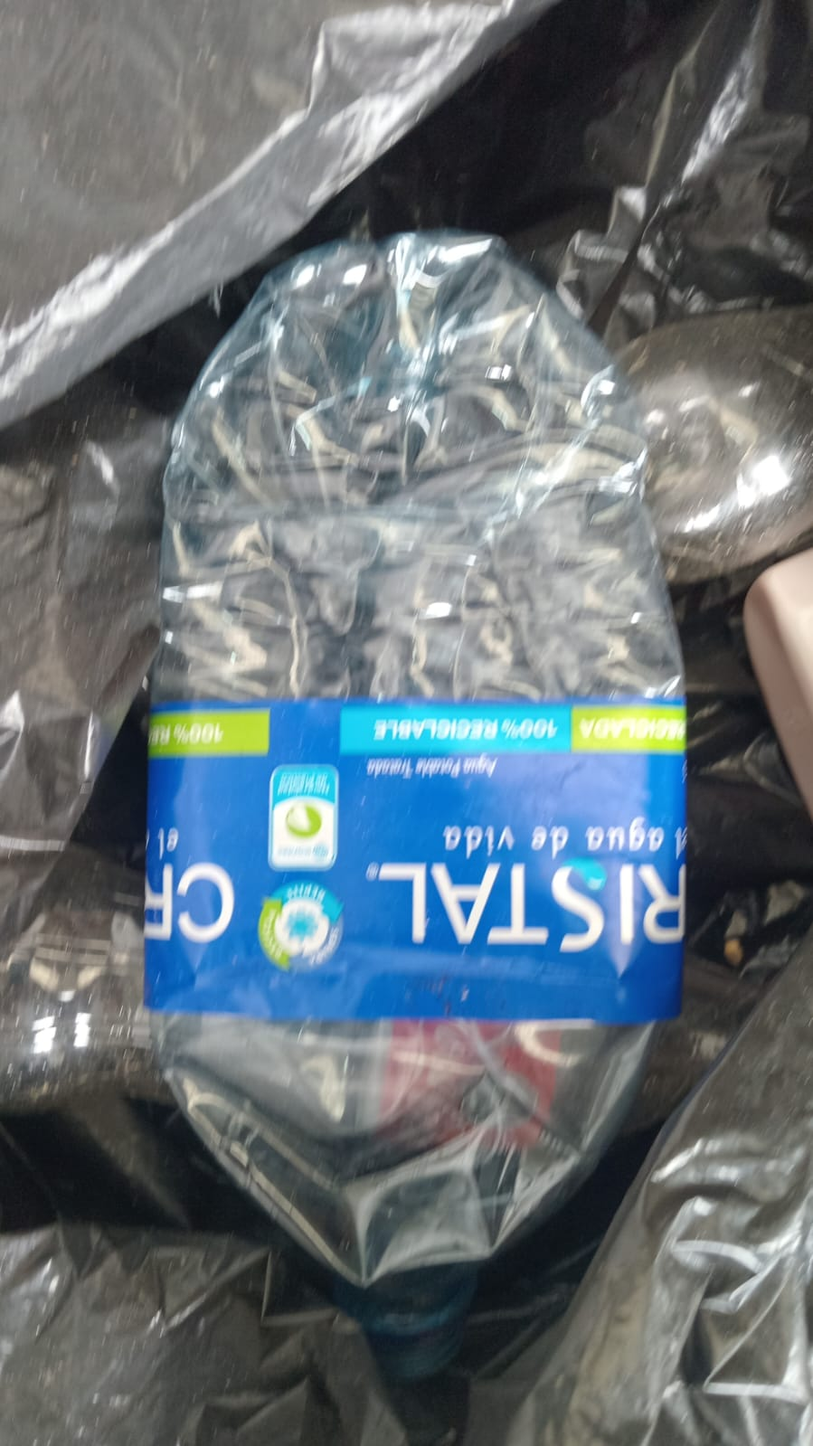Plastico: (145, 228, 694, 1285)
